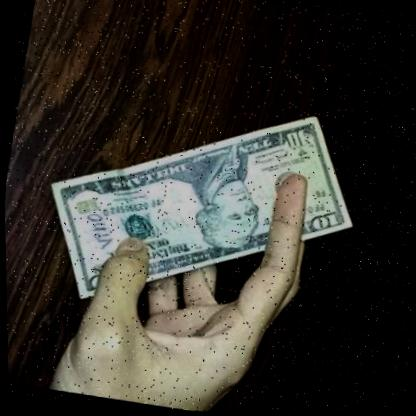dollar_front: (24, 67, 379, 349)
